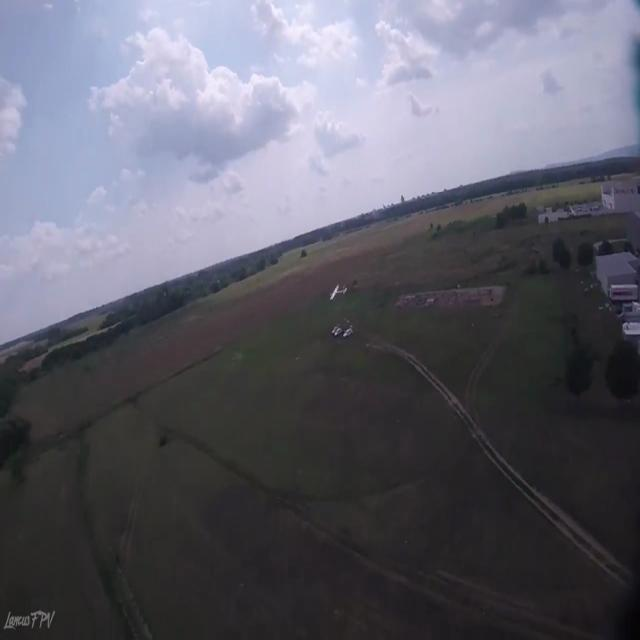iha: (325, 279, 349, 302)
